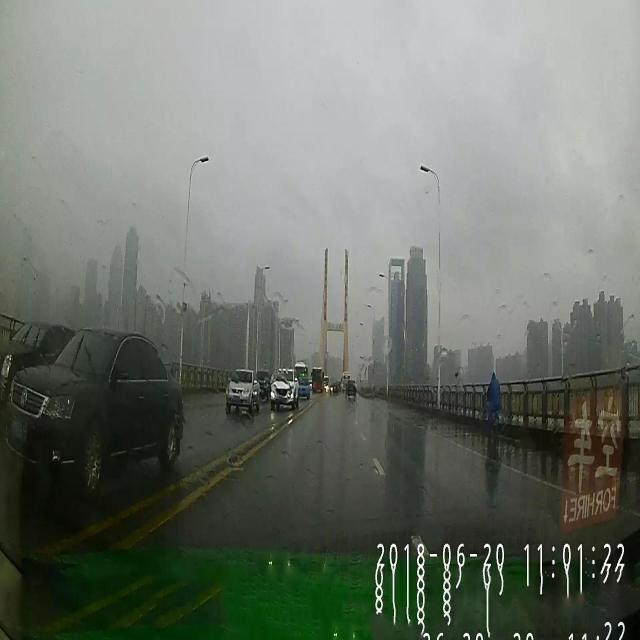car: (5, 328, 182, 494), (224, 369, 262, 416), (270, 370, 297, 412), (296, 378, 310, 399), (348, 383, 356, 398)
